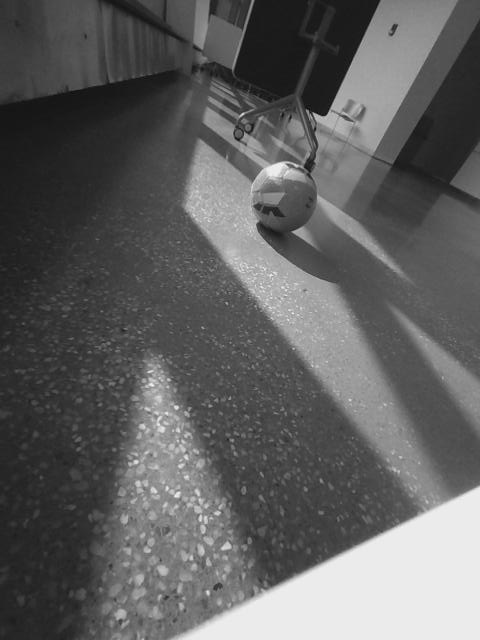ball: (249, 160, 320, 234)
